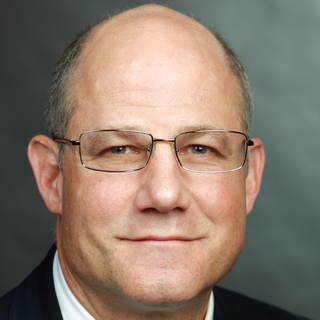eye: (94, 139, 143, 161), (178, 139, 223, 162)
